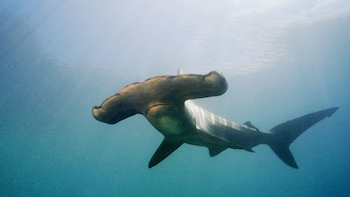Hammer: (87, 52, 350, 178), (22, 2, 233, 124)
